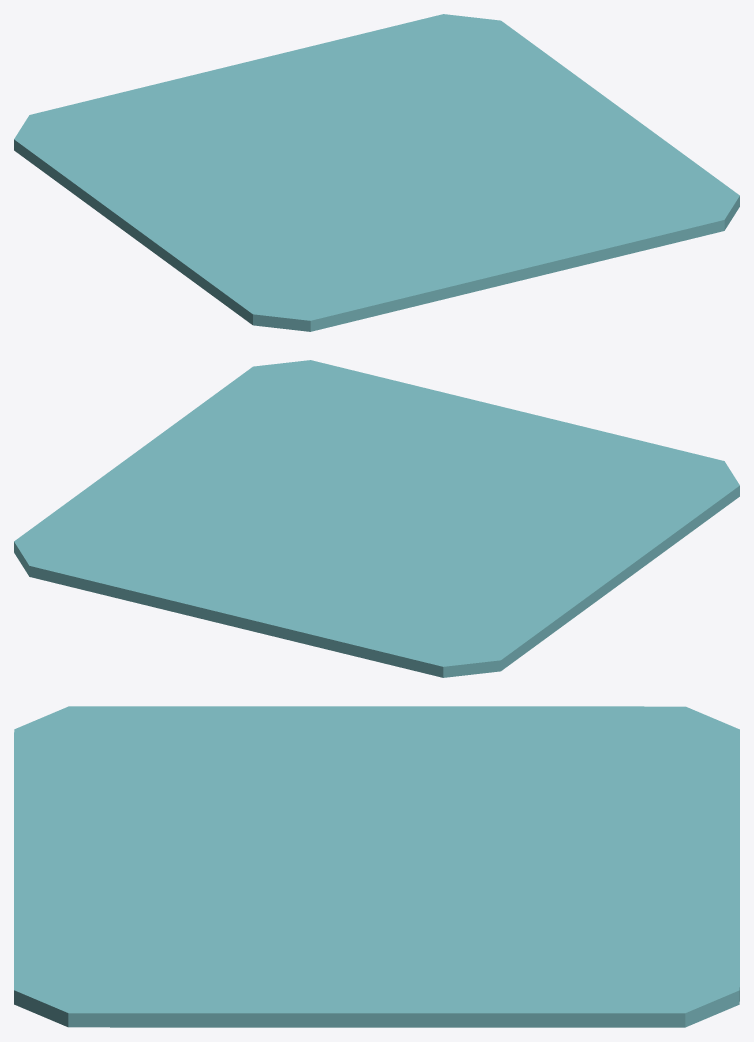
The model's file is SM_Mouse_Pad.fbx.
The picture shows the model from 3 angles, top to bottom: view 1: azimuth 30°, elevation 25°; view 2: azimuth 150°, elevation 25°; view 3: azimuth 270°, elevation 25°; orthographic projection. The views are drawn at different scales.
Visible parts, largest first — view 1: MousePad; view 2: MousePad; view 3: MousePad.
Boxes of the visible parts, x1,y1,x2,y2 form: MousePad: (14,14,739,331); MousePad: (14,360,739,677); MousePad: (14,706,739,1027).
Size of the model in its own units: 26.8 by 0.5829 by 26.8.
